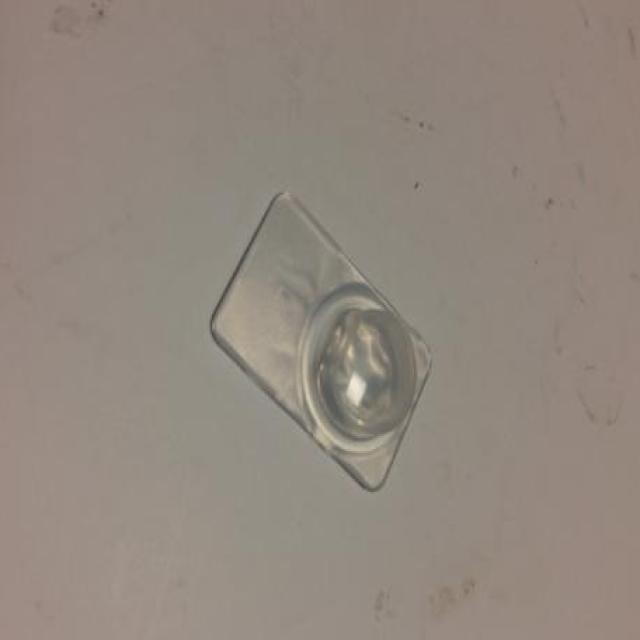nhom: (208, 187, 435, 490)
